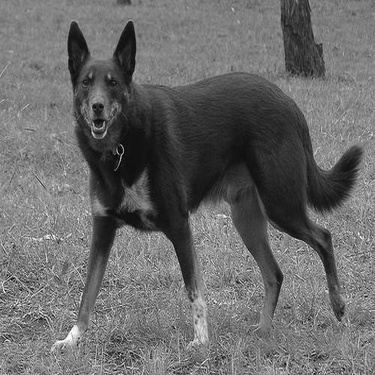dog: (47, 14, 366, 353)
